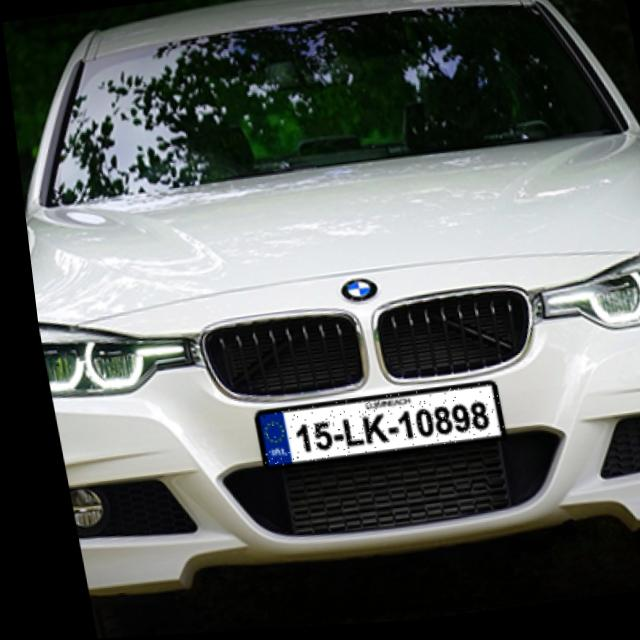license_plate: (242, 386, 496, 470)
